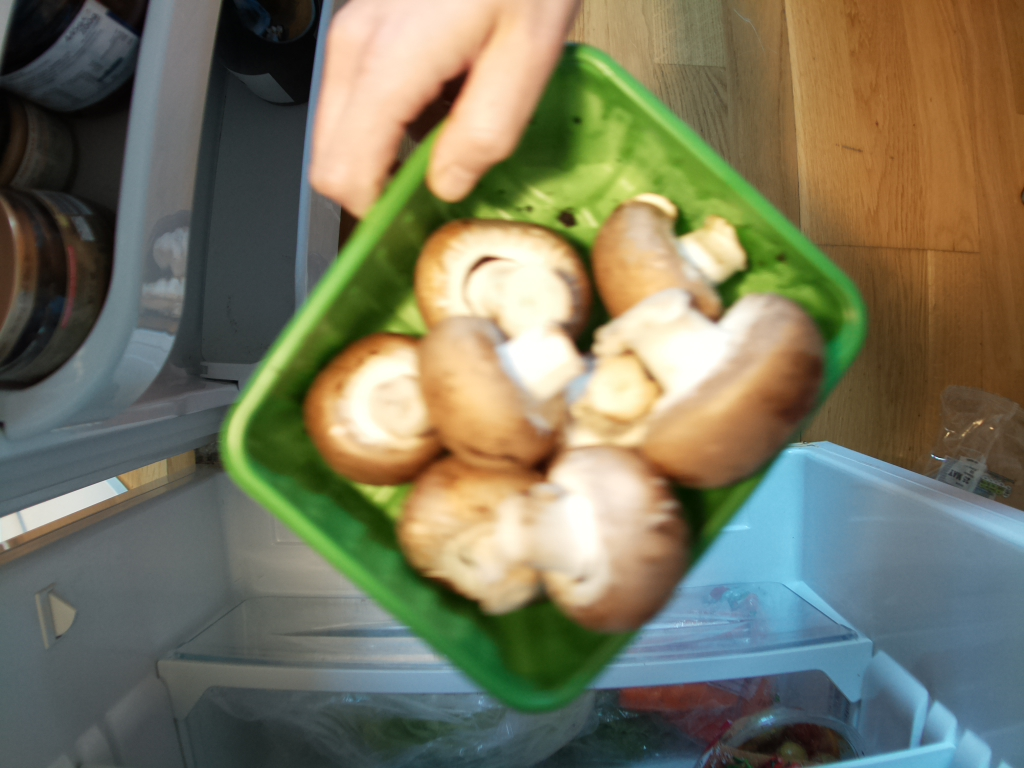mushrooms: (227, 37, 871, 702)
